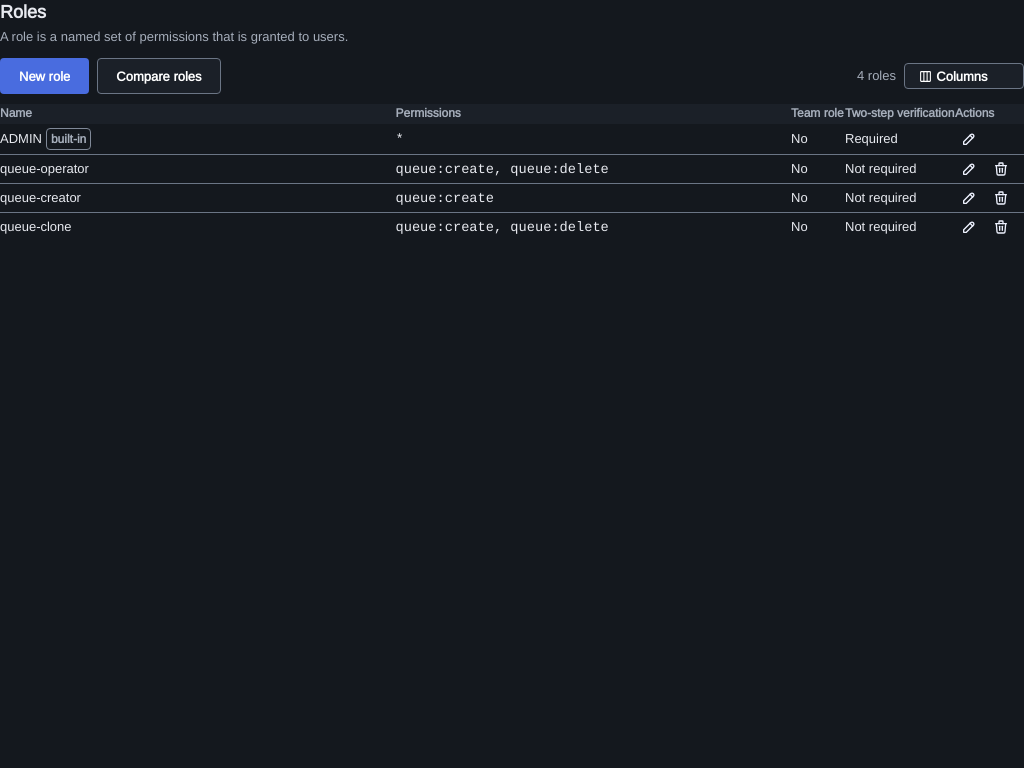
RolesPanel list › says why a role could not be deleted and what to do
The width and height of the screenshot is (1024, 768).
Click the button named "Delete queue-creator" at {"x": 1001, "y": 198}, box top-left (987, 184), bottom-right (1015, 212)
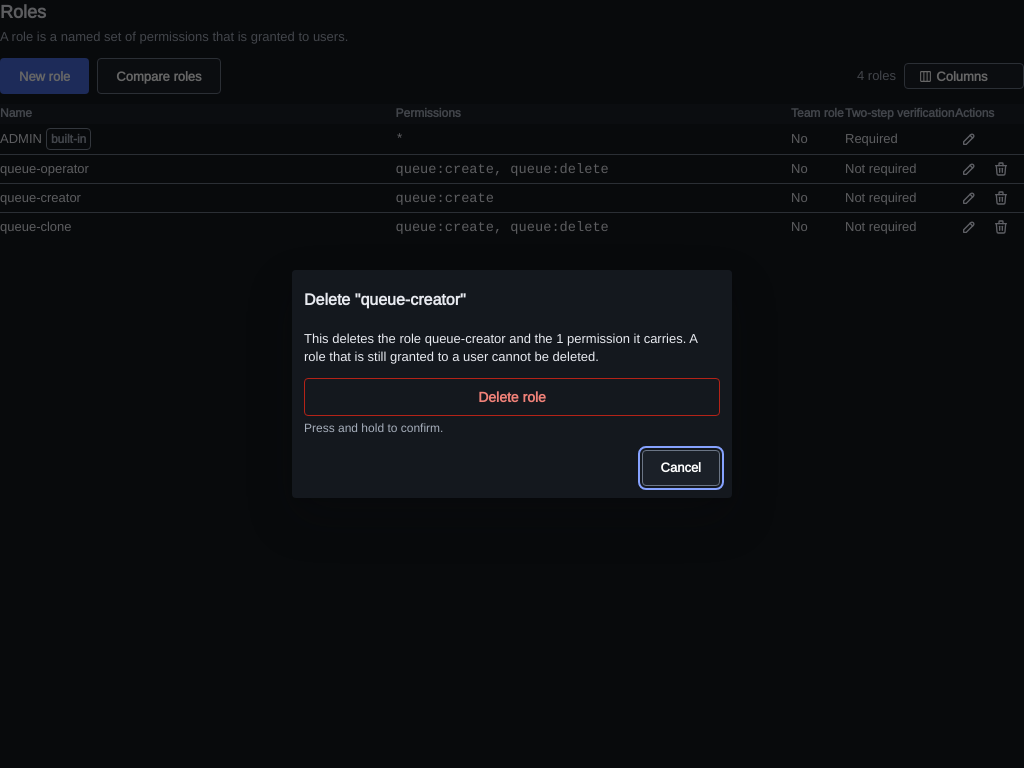
Press the mouse on the button "Delete role Delete role" at {"x": 512, "y": 398}, box top-left (304, 378), bottom-right (720, 416)
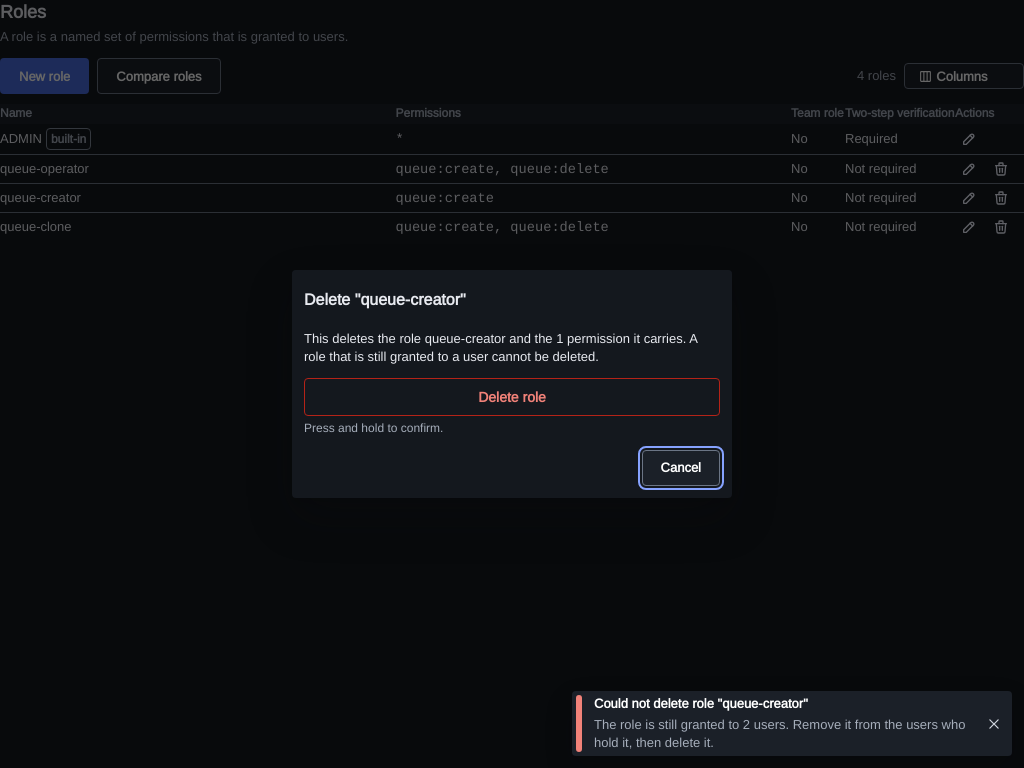
Result: the dialog is shown at top-left (292, 270), bottom-right (732, 498)
Result: the message shows "Could not delete role \"queue-creator\"" at top-left (594, 695), bottom-right (808, 712)
Result: the message shows "The role is still granted to 2 users. Remove it from the users who hold it, then delete it." at top-left (594, 716), bottom-right (965, 751)
